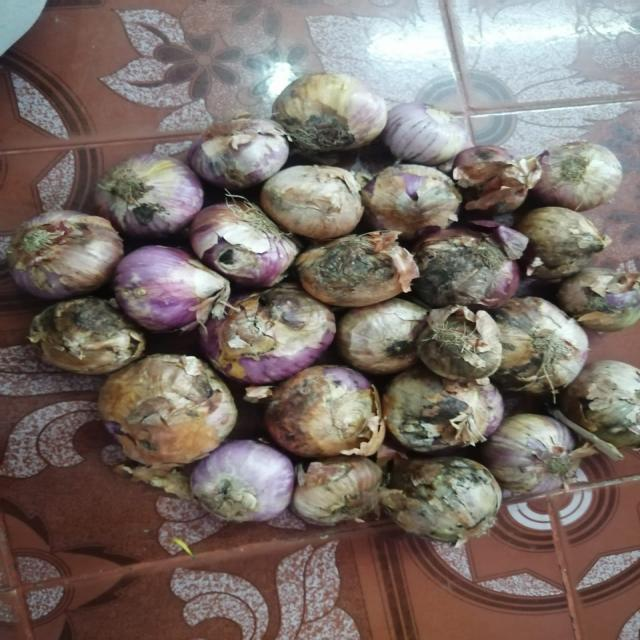rotten: (138, 362, 220, 422), (406, 395, 466, 453), (420, 470, 480, 520), (433, 246, 491, 296), (308, 248, 376, 290), (54, 314, 128, 352), (100, 178, 161, 220), (255, 298, 327, 332), (296, 104, 342, 144)
